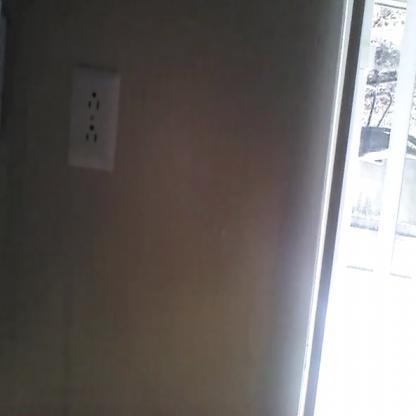OUTLET: (68, 71, 119, 168)
